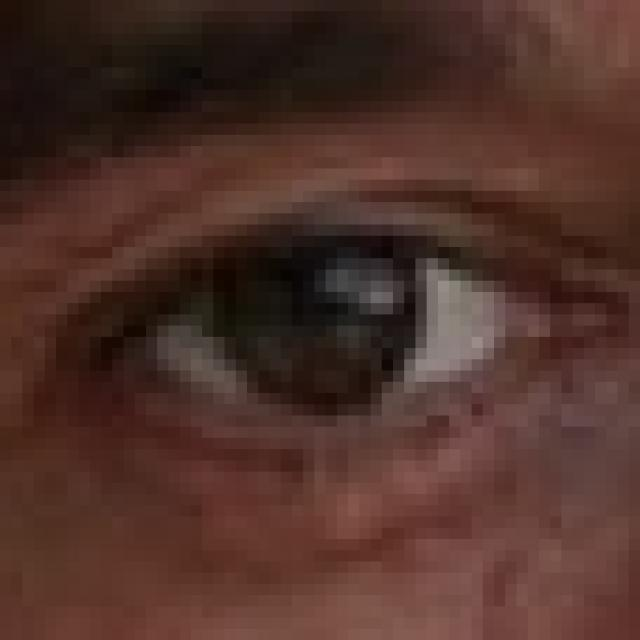eye: (31, 127, 624, 520)
gaze: (188, 218, 444, 419)
